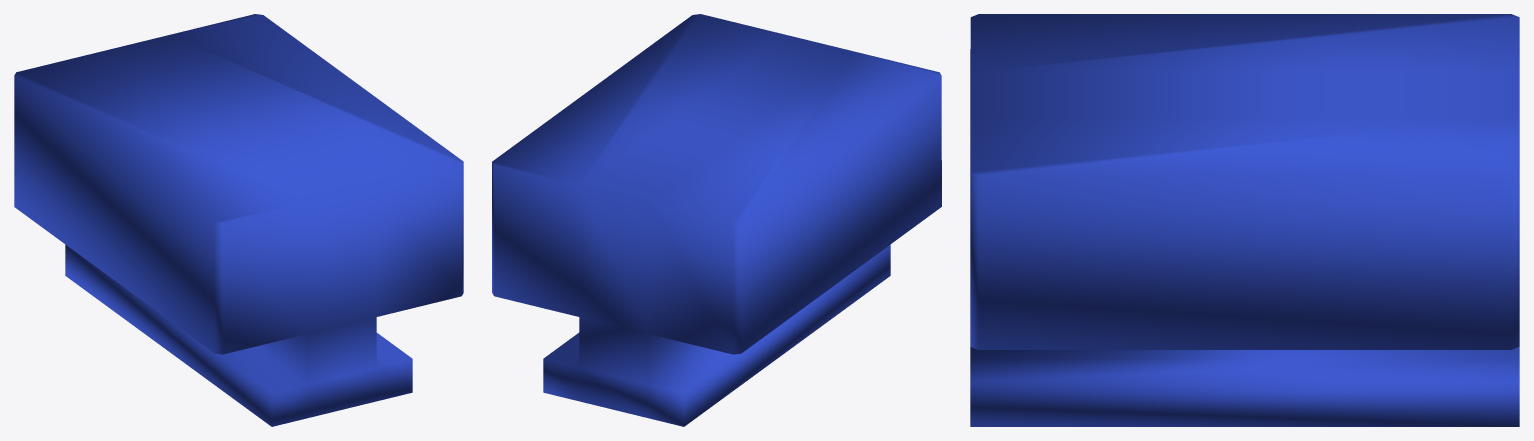
File: Vice_mount.fbx
The picture shows the model from 3 angles, left to right: view 1: azimuth 30°, elevation 25°; view 2: azimuth 150°, elevation 25°; view 3: azimuth 270°, elevation 25°; orthographic projection. The views are drawn at different scales.
Visible parts, largest first — view 1: Vice_mount_LP; view 2: Vice_mount_LP; view 3: Vice_mount_LP.
Boxes of the visible parts, left/top/right/bottom form: Vice_mount_LP: left=14, top=14, right=463, bottom=426; Vice_mount_LP: left=492, top=14, right=941, bottom=426; Vice_mount_LP: left=970, top=14, right=1519, bottom=426.
Size of the model in its own units: 8.63 by 12.38 by 7.12.
